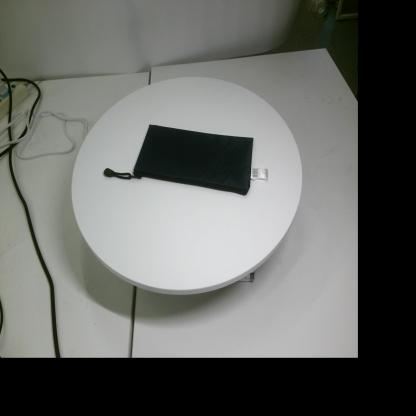Stationery: (104, 124, 268, 196)
